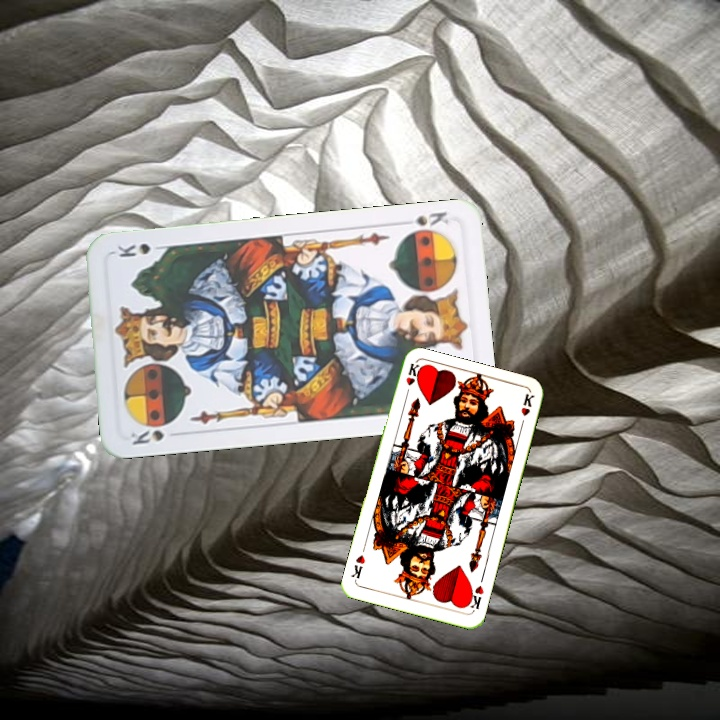HK: (401, 360, 422, 401), (463, 581, 486, 614)
SK: (396, 207, 451, 229), (125, 426, 167, 447)
